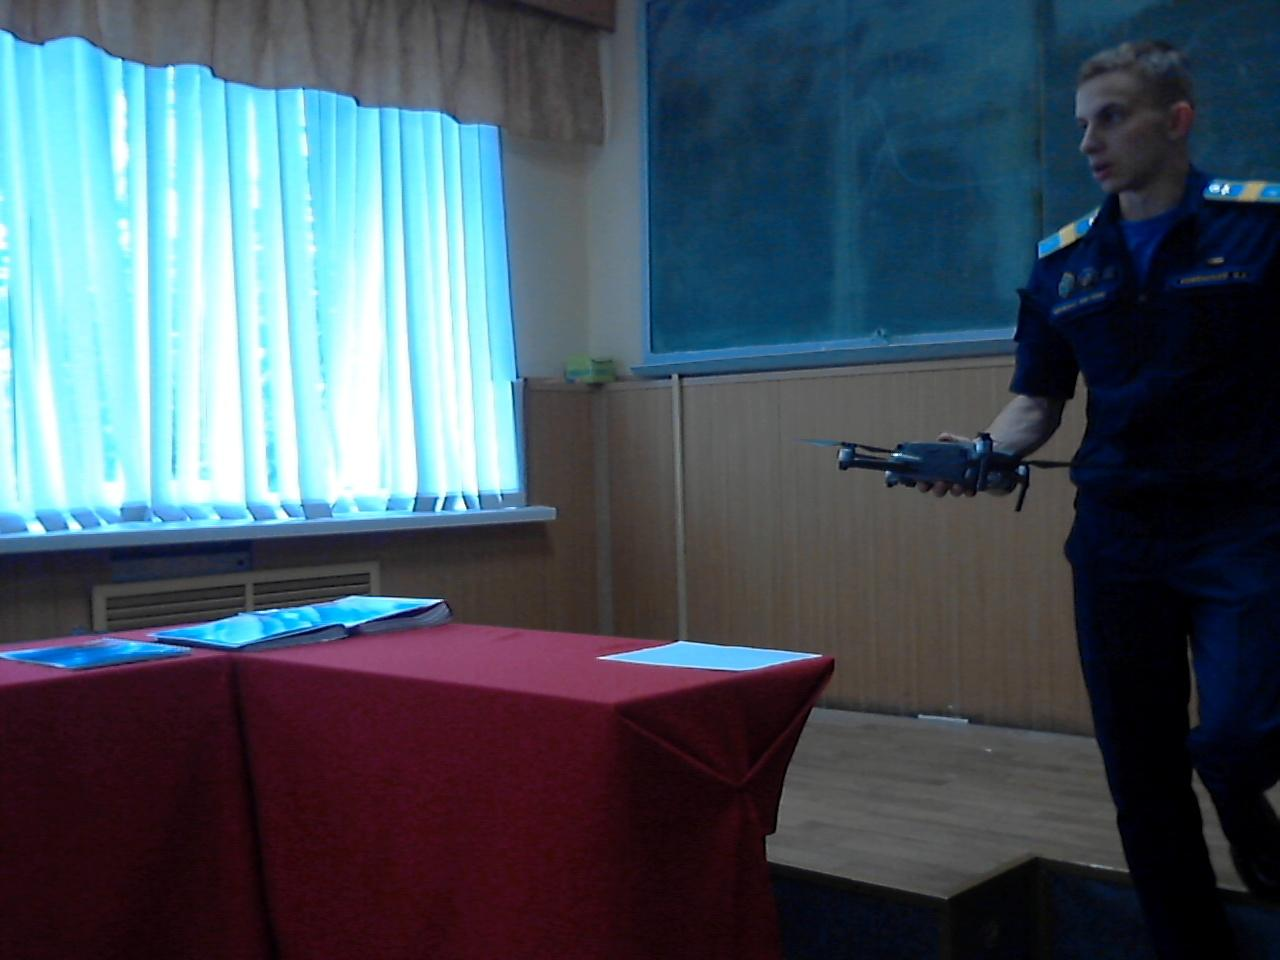drone: (804, 404, 1090, 523)
